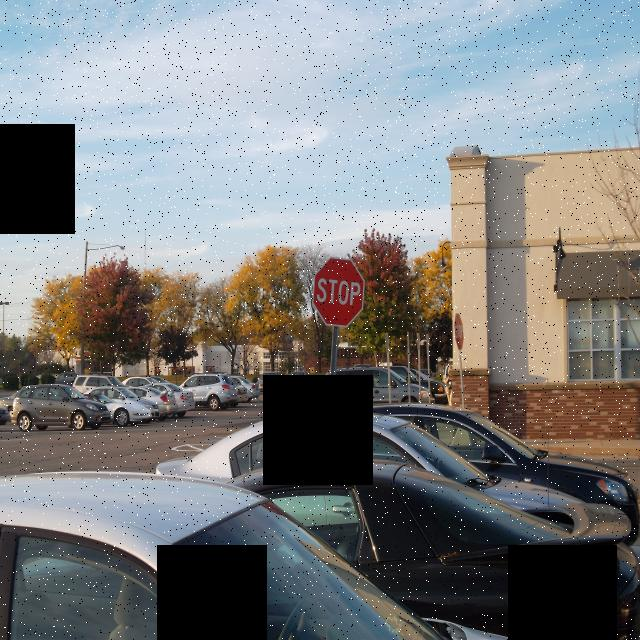stop: (311, 250, 367, 330), (452, 314, 469, 352)
